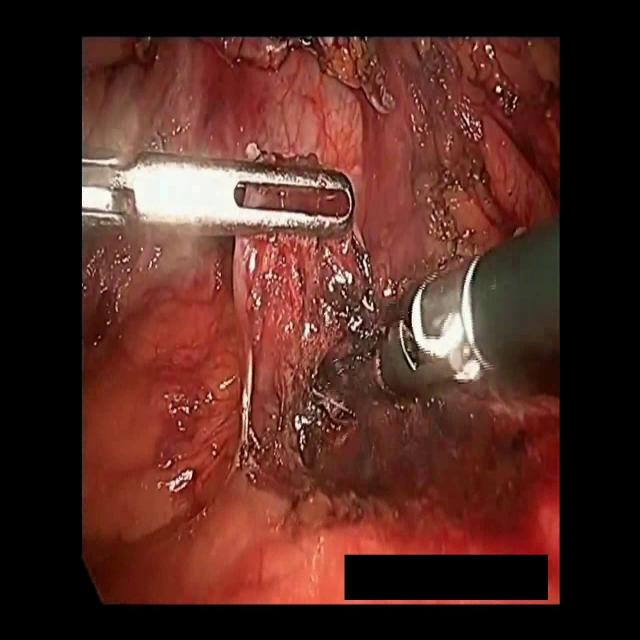surgical-area: (80, 31, 558, 603)
surgical-tool: (339, 210, 558, 404), (80, 148, 357, 242)
